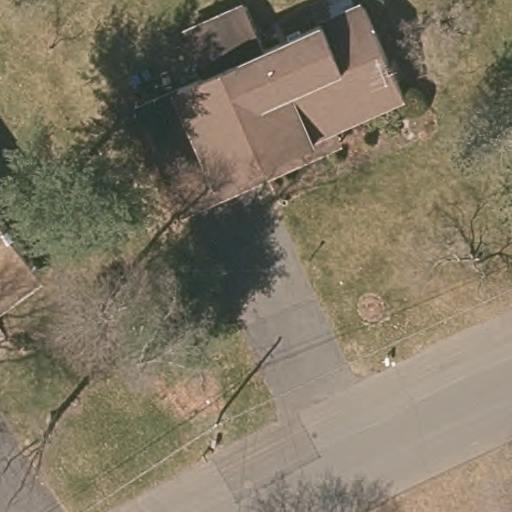DT: (194, 437, 228, 465), (377, 351, 400, 373)
